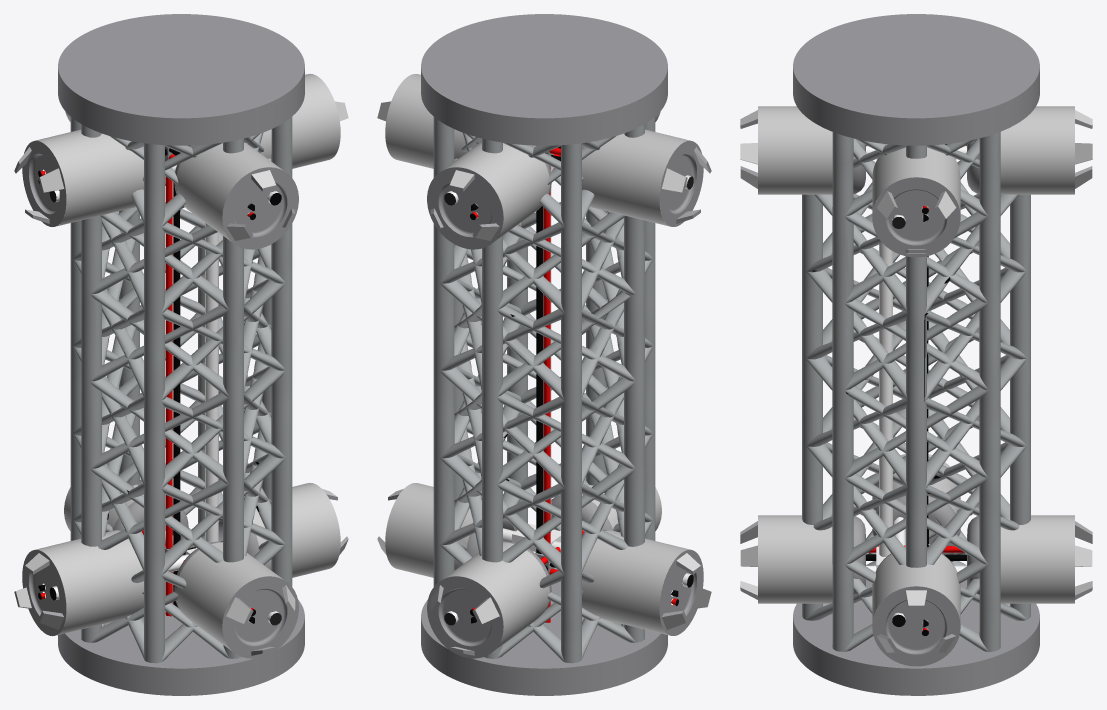
File: truss.glb
3 views of the same model, side by side, from view 1: azimuth 30°, elevation 25°; view 2: azimuth 150°, elevation 25°; view 3: azimuth 270°, elevation 25° (orthographic).
Size of the model in its own units: 0.00555 by 0.01 by 0.00555.
8 materials, 2 textured.
